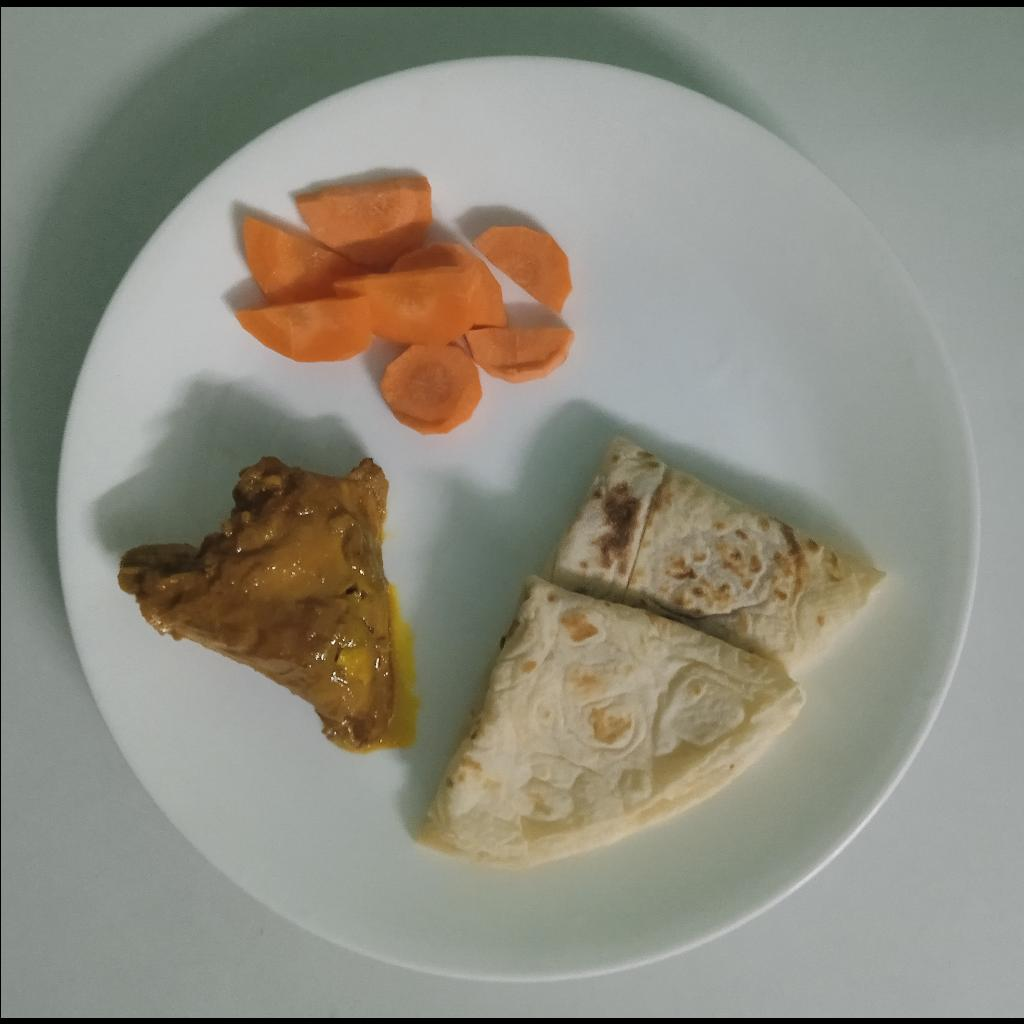carrot: (232, 174, 574, 436)
chicken: (112, 452, 397, 756)
ruti: (412, 430, 889, 870)
